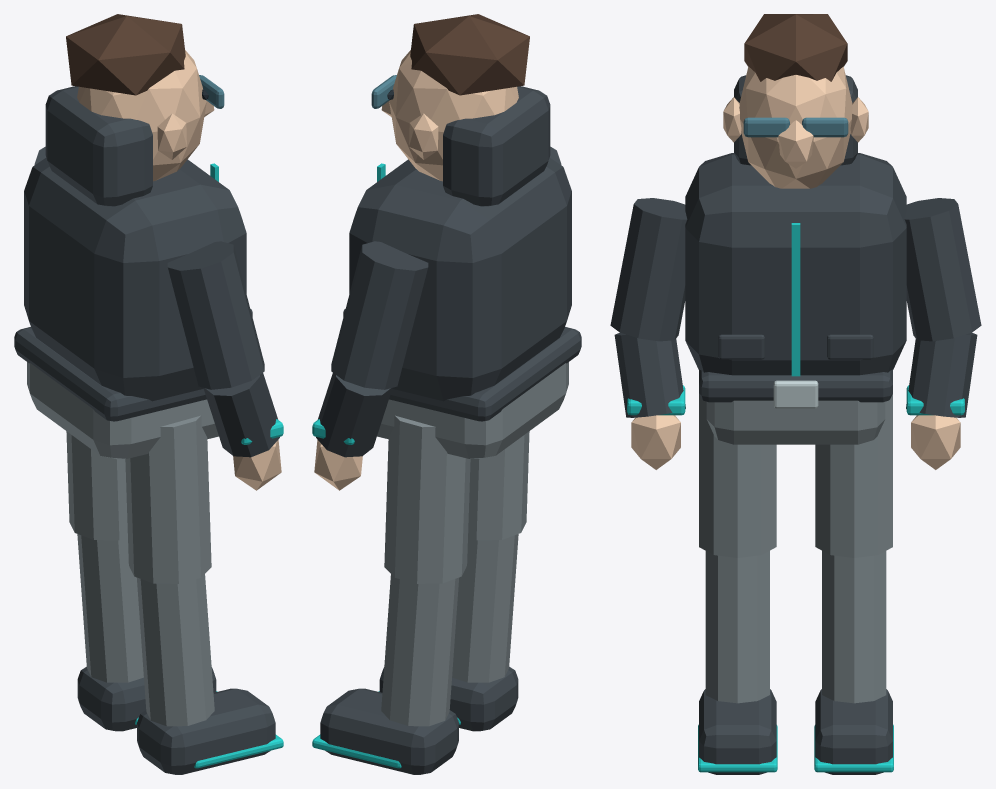
Rendered from Player.fbx.
3 renders of one model, left to right at view 1: azimuth 30°, elevation 25°; view 2: azimuth 150°, elevation 25°; view 3: azimuth 270°, elevation 25°, orthographic. The views are drawn at different scales.
Parts seen in each view (by area): view 1: Player; view 2: Player; view 3: Player.
Part boxes in pixels (x1=…): Player: x1=14, y1=14, x2=283, y2=774; Player: x1=312, y1=14, x2=581, y2=774; Player: x1=610, y1=14, x2=981, y2=774.
Bounding box in the file's own units: 51 × 204 × 95.55.
